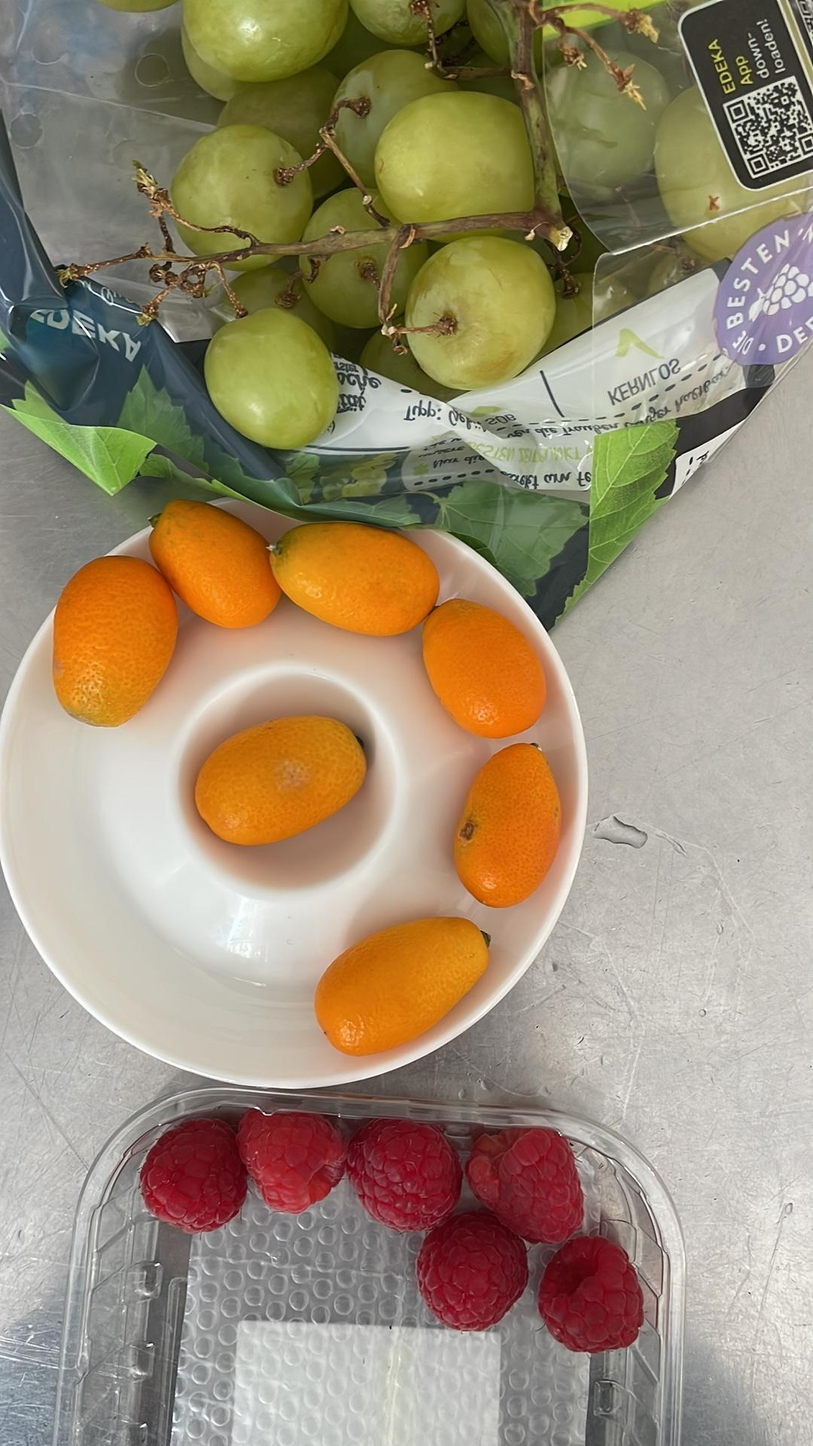grape: (372, 84, 551, 236), (399, 237, 558, 392), (197, 300, 345, 449), (662, 91, 794, 255), (530, 41, 670, 192), (170, 133, 315, 255), (298, 178, 422, 318), (175, 0, 356, 78), (323, 55, 446, 162), (346, 0, 482, 54)
orange: (310, 911, 494, 1059), (194, 709, 376, 850), (50, 545, 181, 729), (450, 733, 566, 912), (269, 519, 438, 638), (423, 596, 547, 739), (145, 499, 279, 631)
raspberry: (350, 1115, 471, 1229), (416, 1214, 530, 1333), (537, 1237, 645, 1353), (144, 1116, 244, 1235), (480, 1130, 574, 1251), (239, 1106, 353, 1203)
